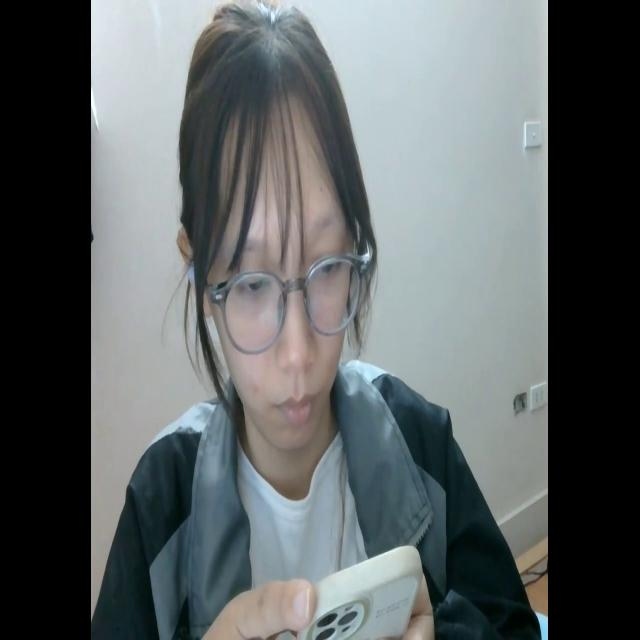phone: (288, 531, 423, 640)
student: (96, 8, 544, 640)
